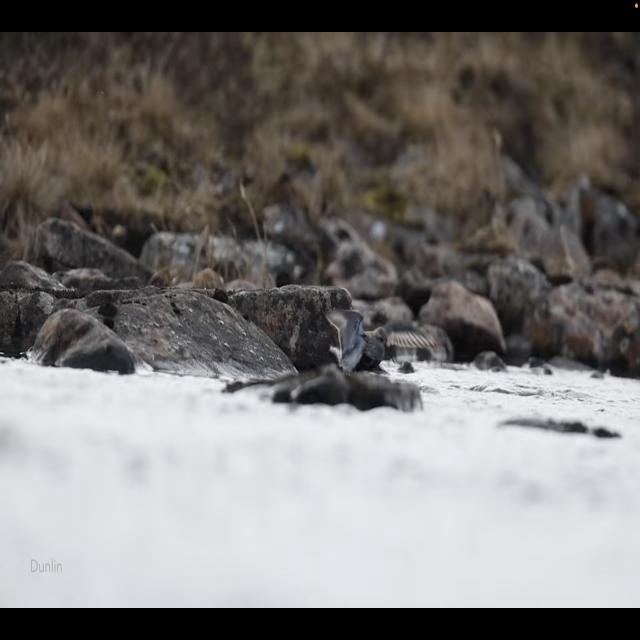beak: (384, 343, 395, 364)
bird: (318, 306, 435, 366)
